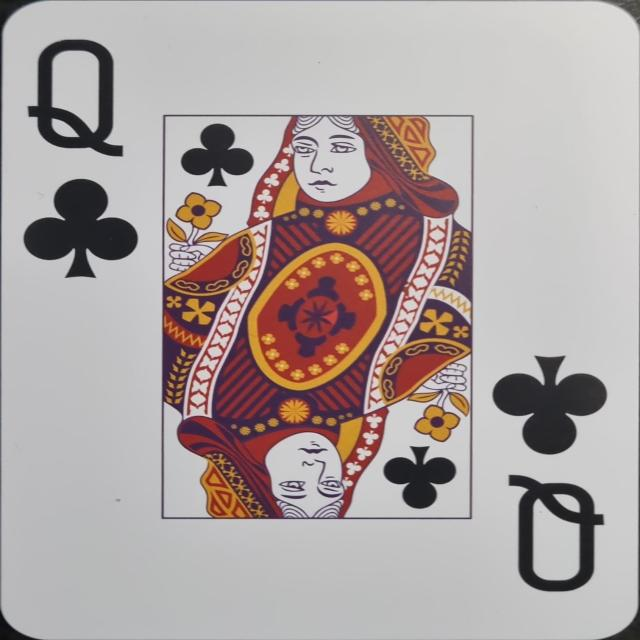Qc: (14, 28, 148, 291), (484, 344, 618, 604)
